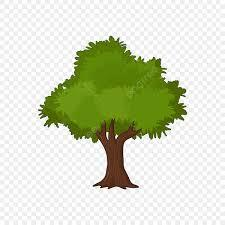tree: (42, 40, 188, 191)
